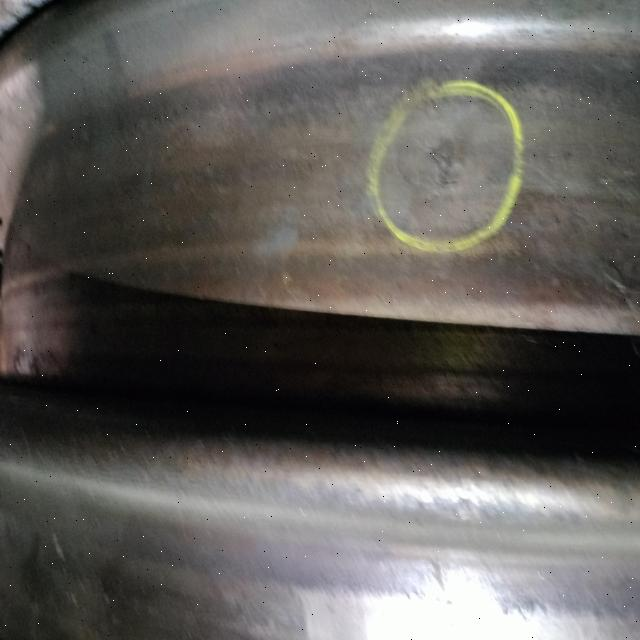Blue hole: (420, 124, 474, 200)
